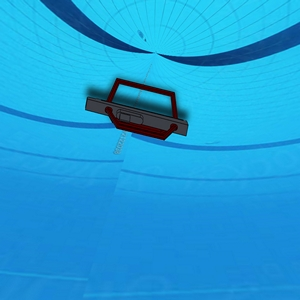submarine: (86, 77, 189, 140)
